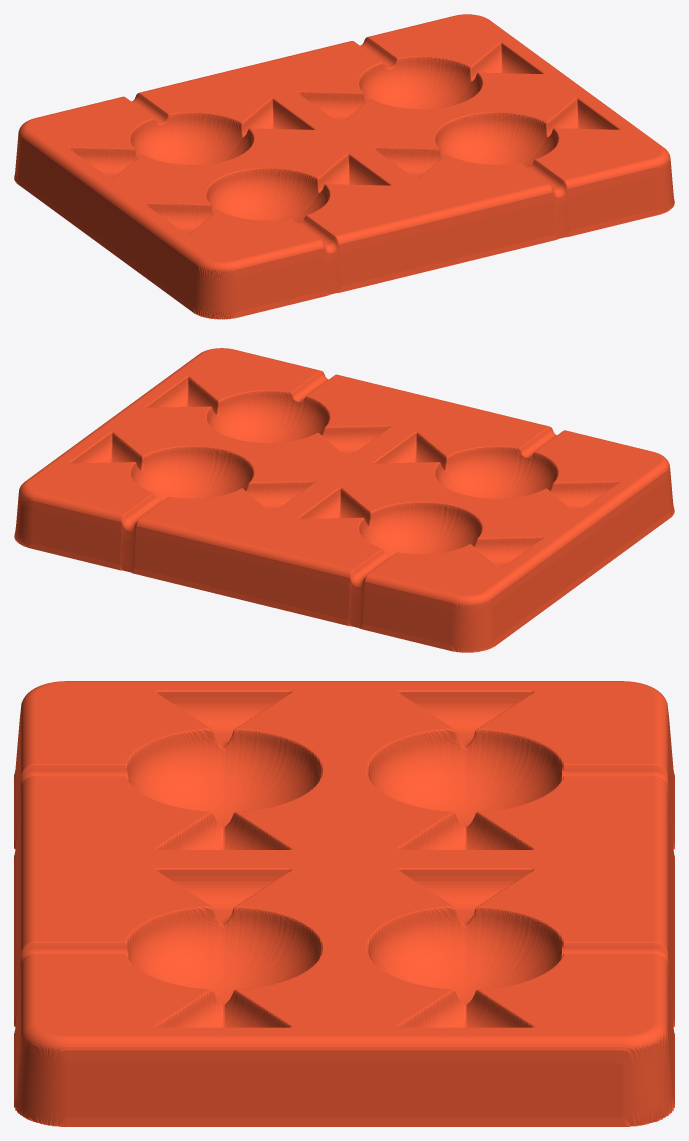
Rendered from mold.glb.
3 views of the same model, one above another, from view 1: azimuth 30°, elevation 25°; view 2: azimuth 150°, elevation 25°; view 3: azimuth 270°, elevation 25° (orthographic). The views are drawn at different scales.
Visible parts, largest first — view 1: geometry_0; view 2: geometry_0; view 3: geometry_0.
Part boxes in pixels (box(x1,y1,x2,y2)): geometry_0: box(14, 14, 674, 319); geometry_0: box(14, 348, 674, 652); geometry_0: box(14, 681, 674, 1126).
Bounding box in the file's own units: 0.1497 × 0.0155 × 0.1127.
